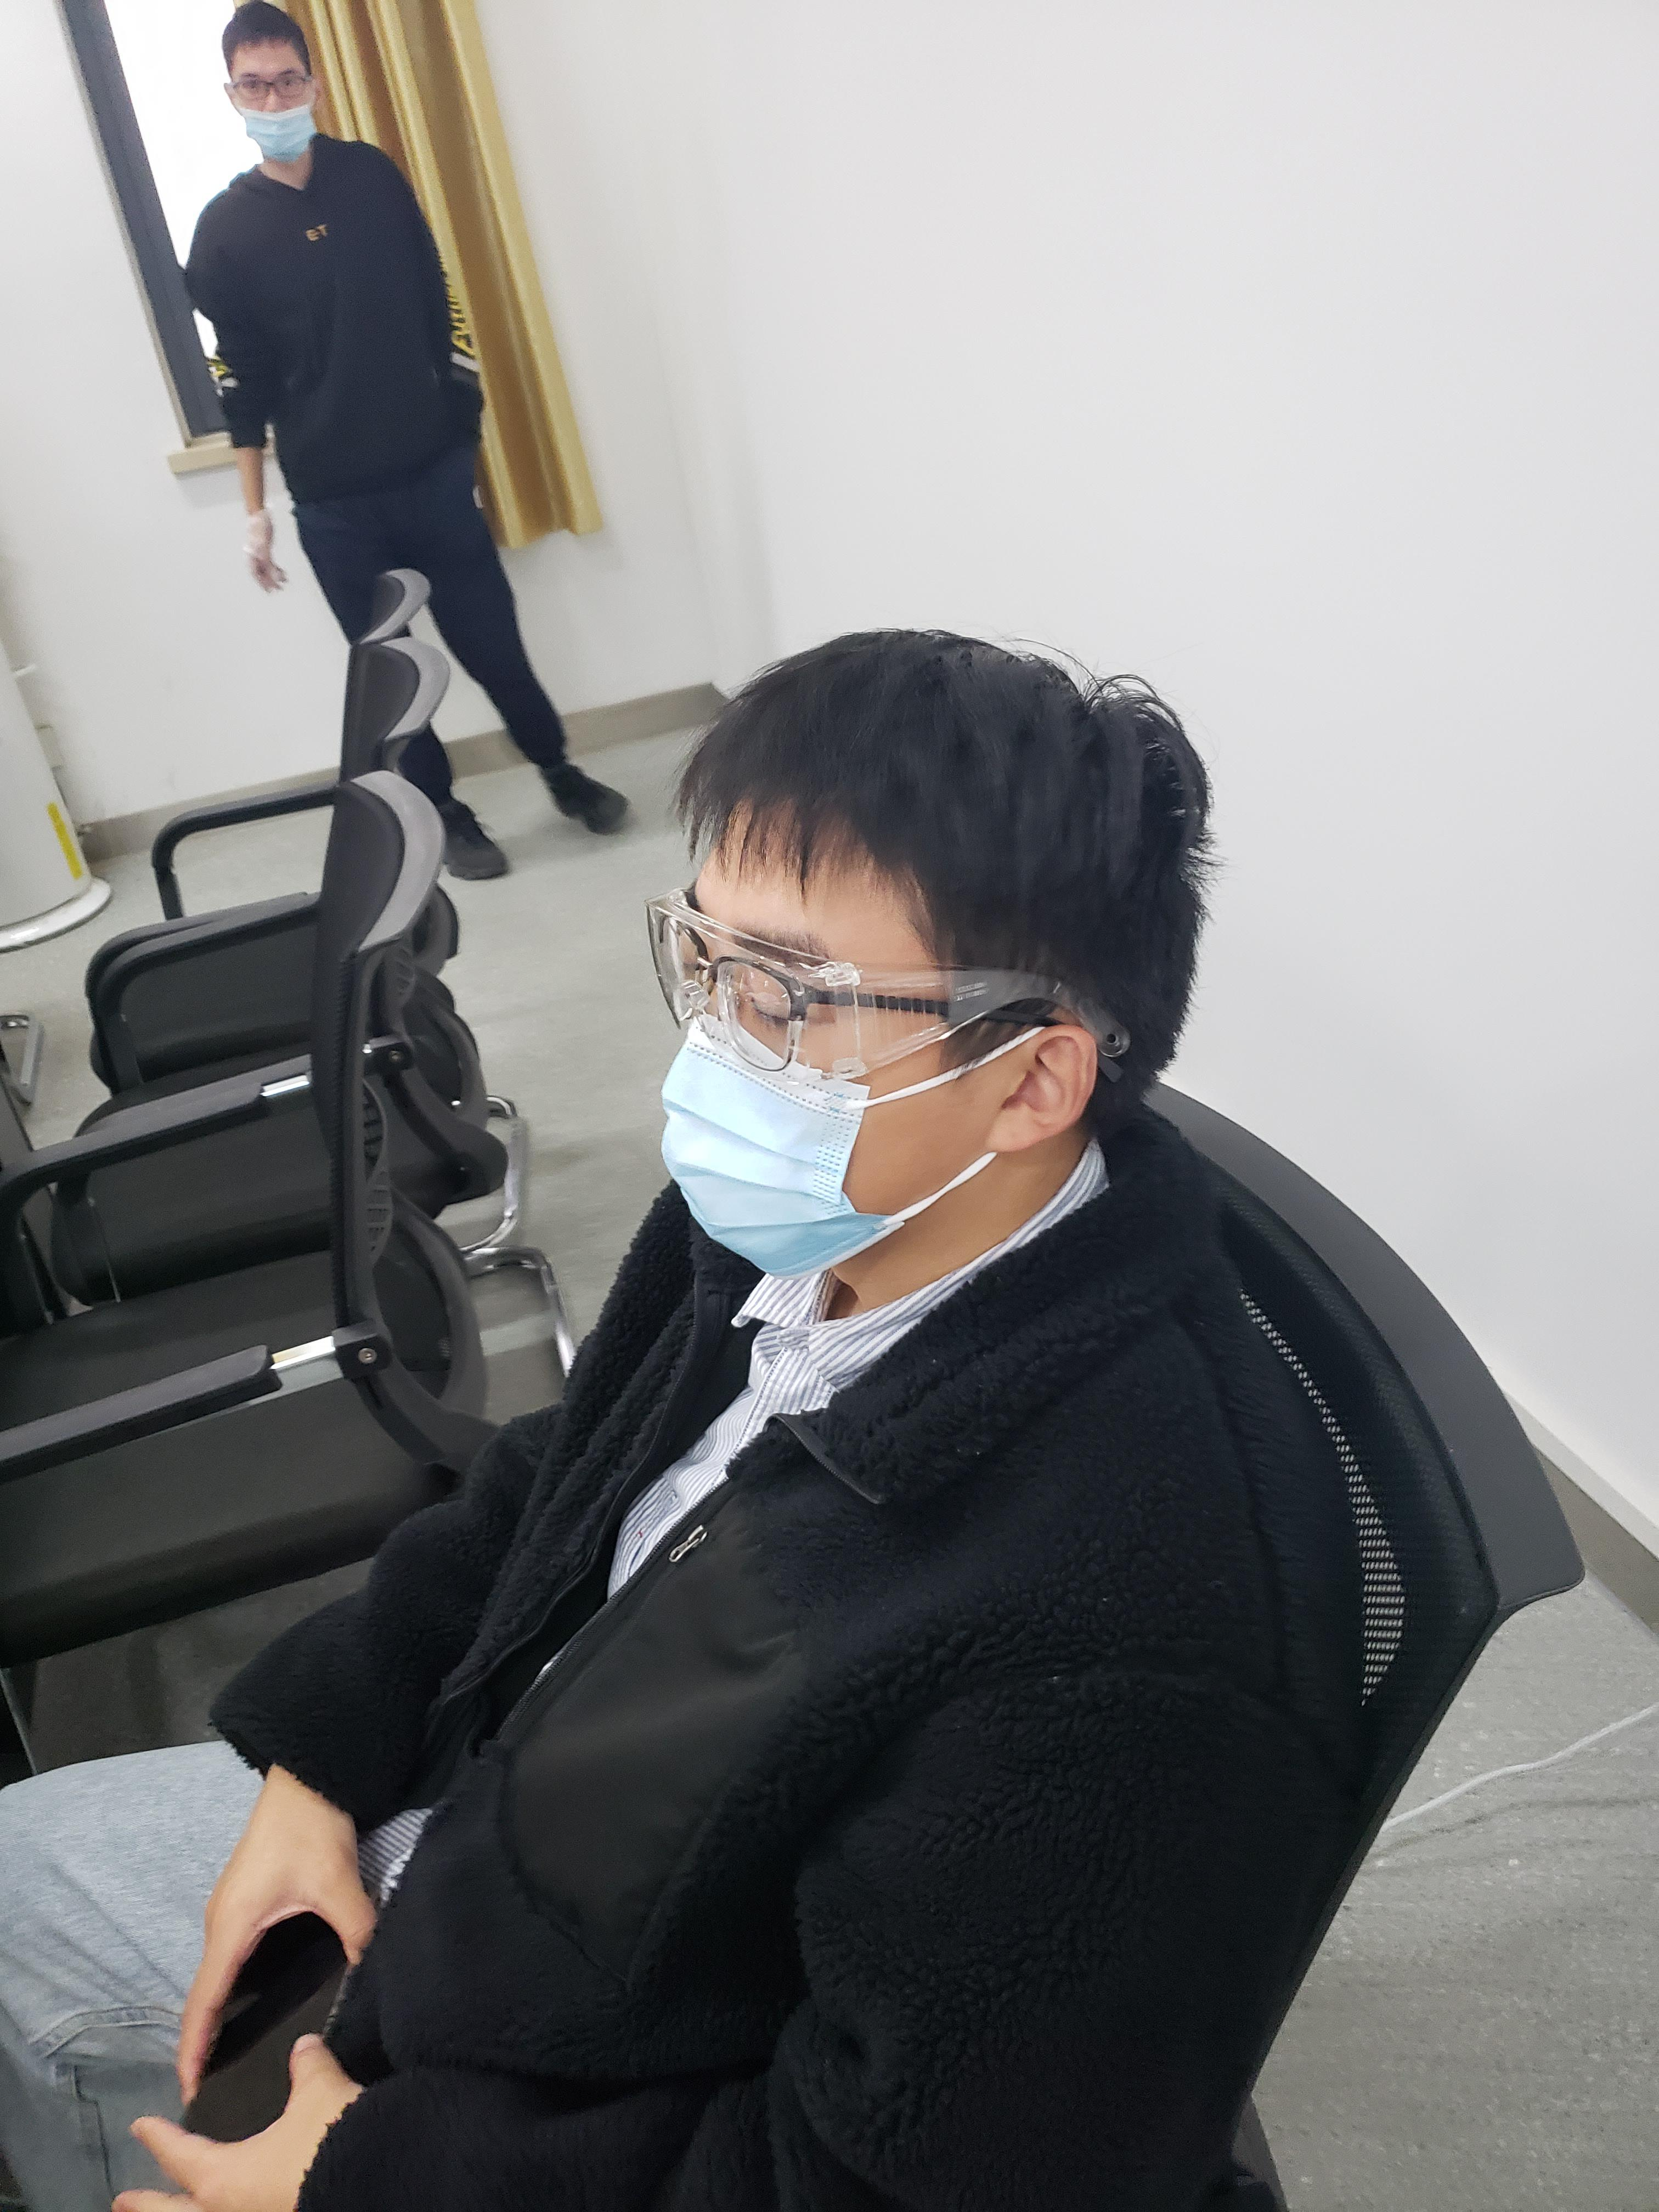Mask: (655, 1005, 995, 1270), (234, 94, 326, 157)
glasses: (643, 885, 1154, 1076)
gloves: (242, 507, 298, 596)
